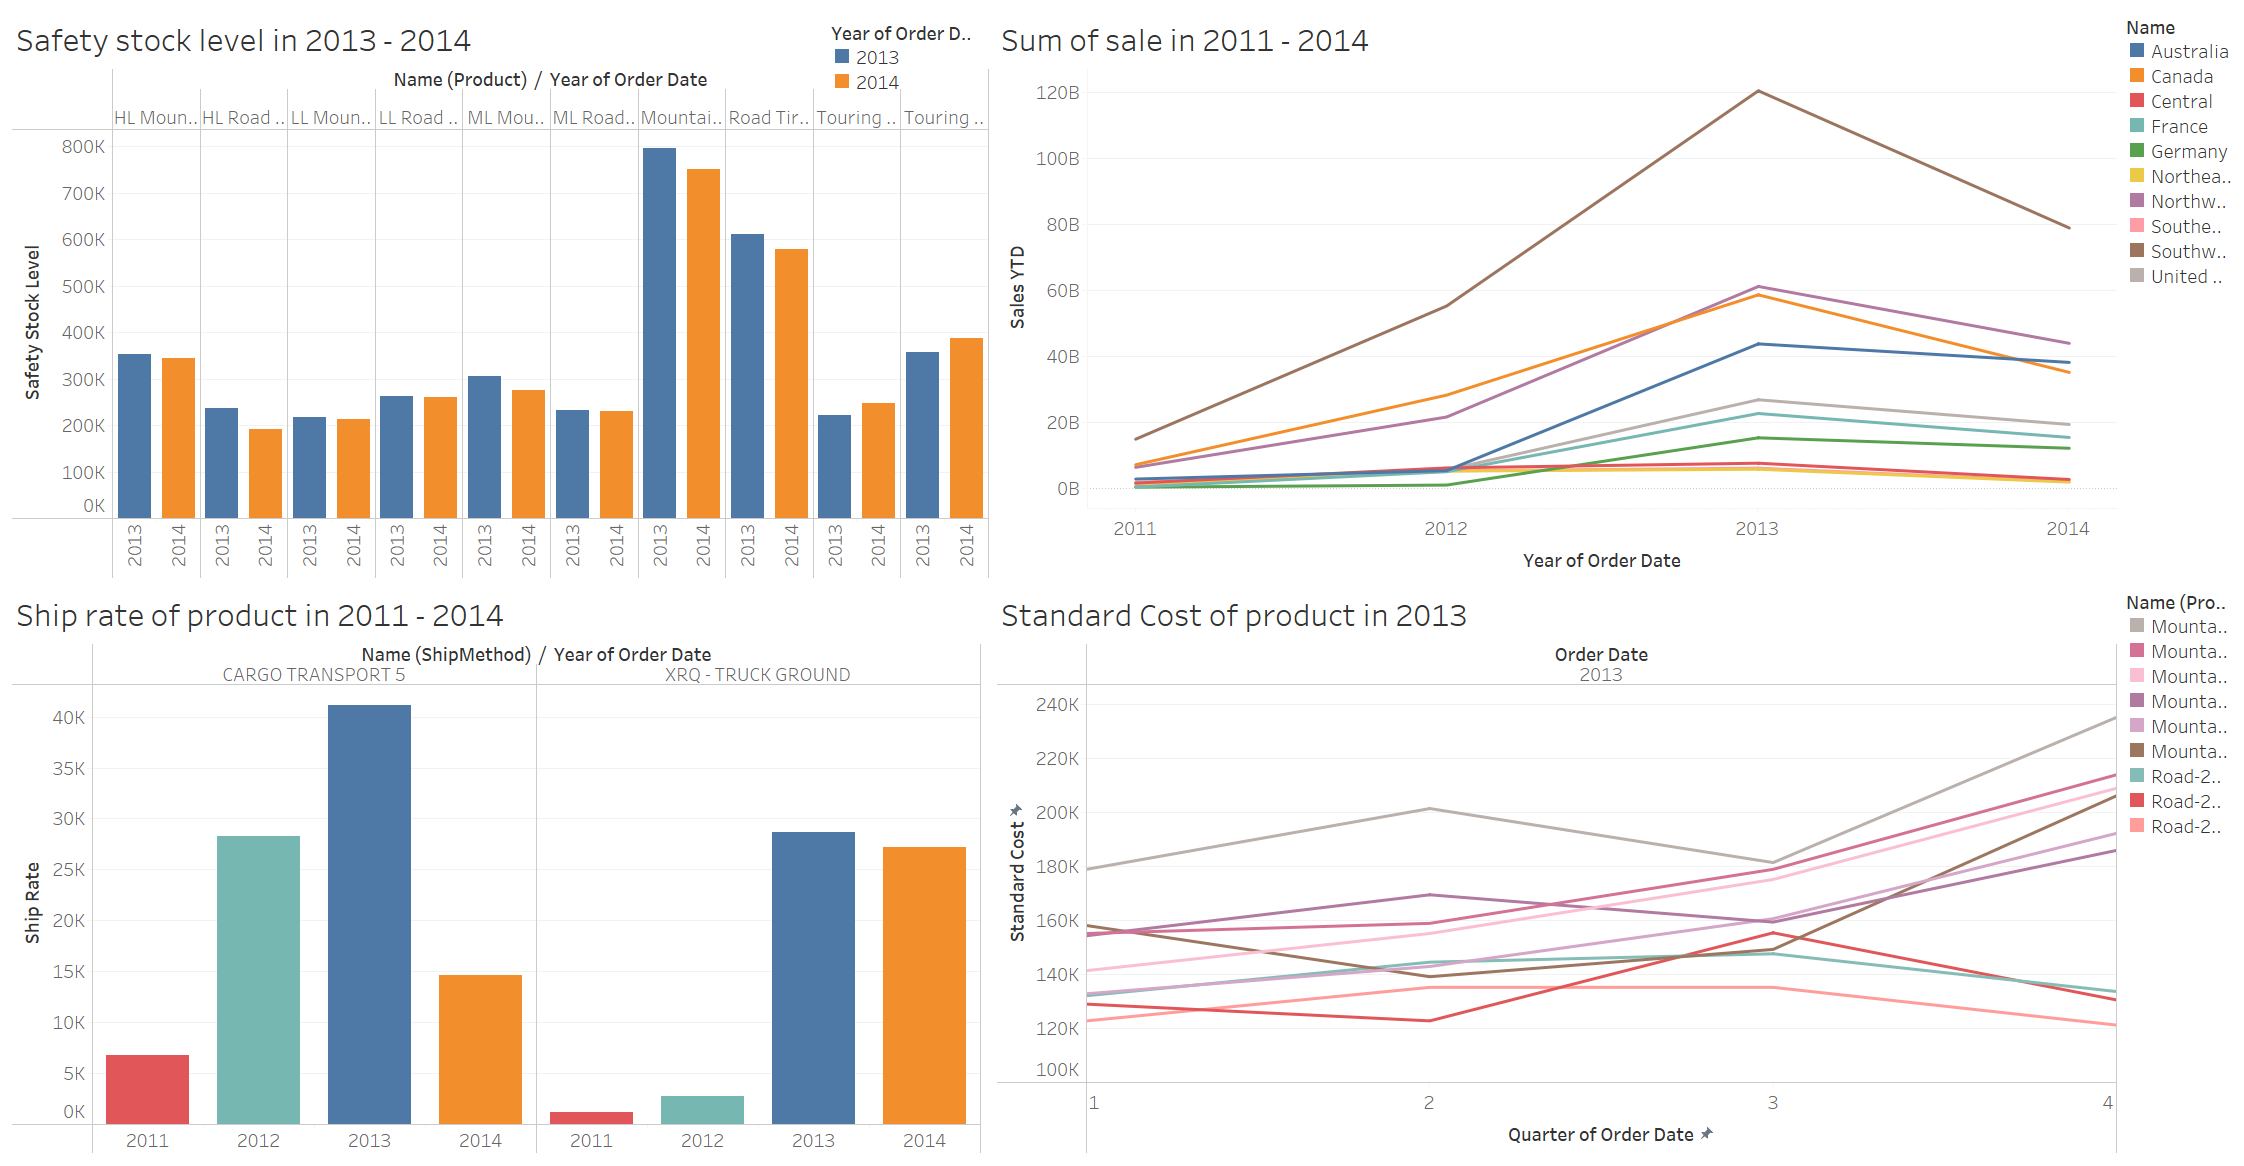

Layout of this report page (visuals, bound fields, positions):
{"tool":"tableau","page":{"name":"Dashboard 1","canvas":[1000,1000],"units":"permille","ordinal":0},"visuals":[{"type":"worksheet","title":"Safety stock level in 2013 - 2014","mark":"Bar","rows":["SafetyStockLevel"],"cols":["Name (Product)","OrderDate"],"box":[3.6,6.9,438.9,493.1]},{"type":"worksheet","title":"Sum of sale in 2011 - 2014","mark":"Automatic","rows":["SalesYTD"],"cols":["OrderDate"],"box":[442.5,6.9,502.7,493.1]},{"type":"legend","title":"Sum of sale in 2011 - 2014","param":"[federated.1fabhcl1l8rqc013lh96v0tgnayy].[none:Name:nk]","box":[945.2,6.9,51.3,493.1]},{"type":"legend","title":"Safety stock level in 2013 - 2014","param":"[federated.1fabhcl1l8rqc013lh96v0tgnayy].[tyr:OrderDate:ok]","box":[369.9,15.4,62.4,65.2]},{"type":"worksheet","title":"Ship rate of product in 2011 - 2014","mark":"Bar","rows":["ShipRate"],"cols":["Name (ShipMethod)","OrderDate"],"box":[3.6,500,438.9,493.2]},{"type":"worksheet","title":"Standard Cost of product in 2013","mark":"Automatic","rows":["StandardCost"],"cols":["OrderDate","OrderDate"],"box":[442.5,500,502.7,493.2]},{"type":"legend","title":"Standard Cost of product in 2013","param":"[federated.1fabhcl1l8rqc013lh96v0tgnayy].[none:Name (Product):nk]","box":[945.1,500,51.3,493.2]}]}

Visuals, with their boxes on the dashboard's canvas, which has no fixed pixel size, in thousandths of its width and height (x1, y1, x2, y2). These are canvas units, not pixel positions in the 2244x1166 screenshot, which may show the page scaled, cropped or inside an application window:
"Safety stock level in 2013 - 2014" worksheet (Bar marks): x1=4, y1=7, x2=442, y2=500
"Sum of sale in 2011 - 2014" worksheet: x1=442, y1=7, x2=945, y2=500
"Sum of sale in 2011 - 2014" legend: x1=945, y1=7, x2=996, y2=500
"Safety stock level in 2013 - 2014" legend: x1=370, y1=15, x2=432, y2=81
"Ship rate of product in 2011 - 2014" worksheet (Bar marks): x1=4, y1=500, x2=442, y2=993
"Standard Cost of product in 2013" worksheet: x1=442, y1=500, x2=945, y2=993
"Standard Cost of product in 2013" legend: x1=945, y1=500, x2=996, y2=993
